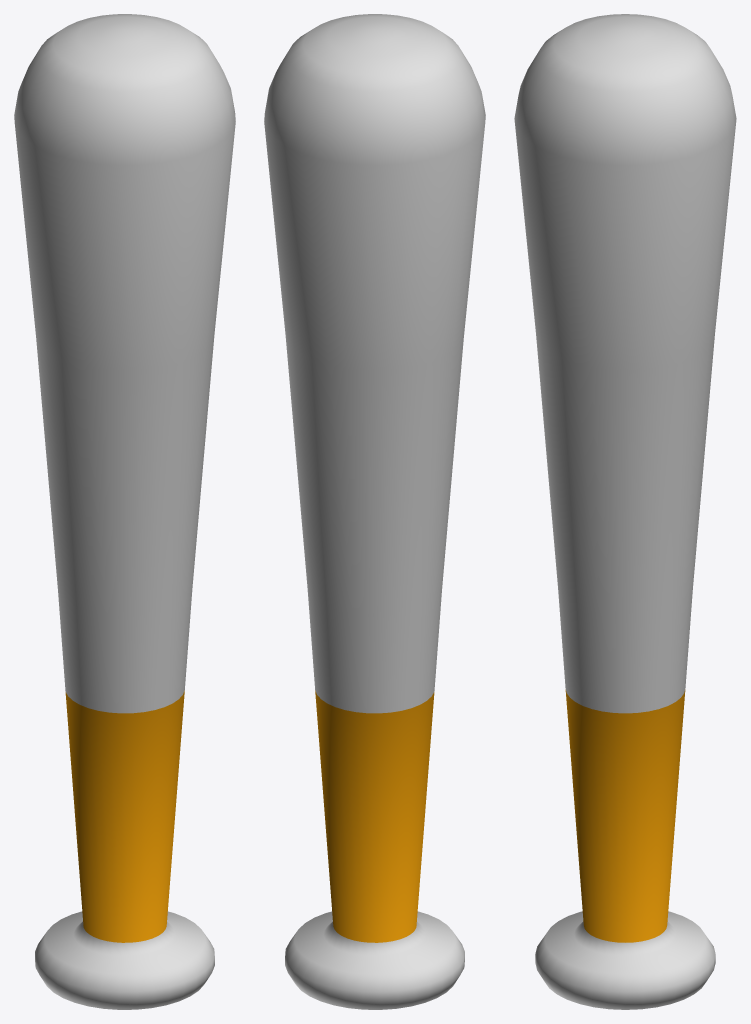
The model's file is baseball.fbx.
3 renders of one model, left to right at view 1: azimuth 30°, elevation 25°; view 2: azimuth 150°, elevation 25°; view 3: azimuth 270°, elevation 25°, orthographic.
Parts seen in each view (by area): view 1: Cylinder; view 2: Cylinder; view 3: Cylinder.
Part boxes in pixels (x1,y1,x2,y2): Cylinder: (14, 14, 235, 1009); Cylinder: (264, 14, 485, 1009); Cylinder: (514, 14, 736, 1009).
Bounding box in the file's own units: 73.37 × 347 × 73.37.
